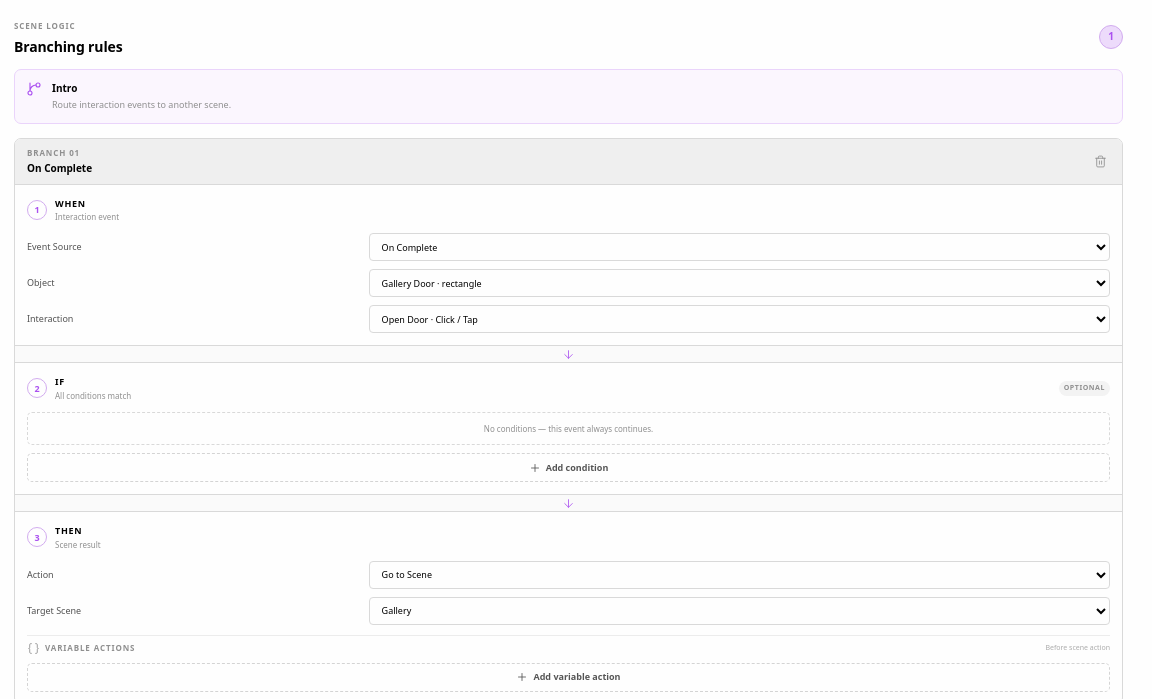
Test case: LogicPanel › asks for an event name only for Custom Event
The width and height of the screenshot is (1152, 699).
Select "Custom Event" in the dropdown labelled "Event Source": (739, 247) [369,233,1110,261]
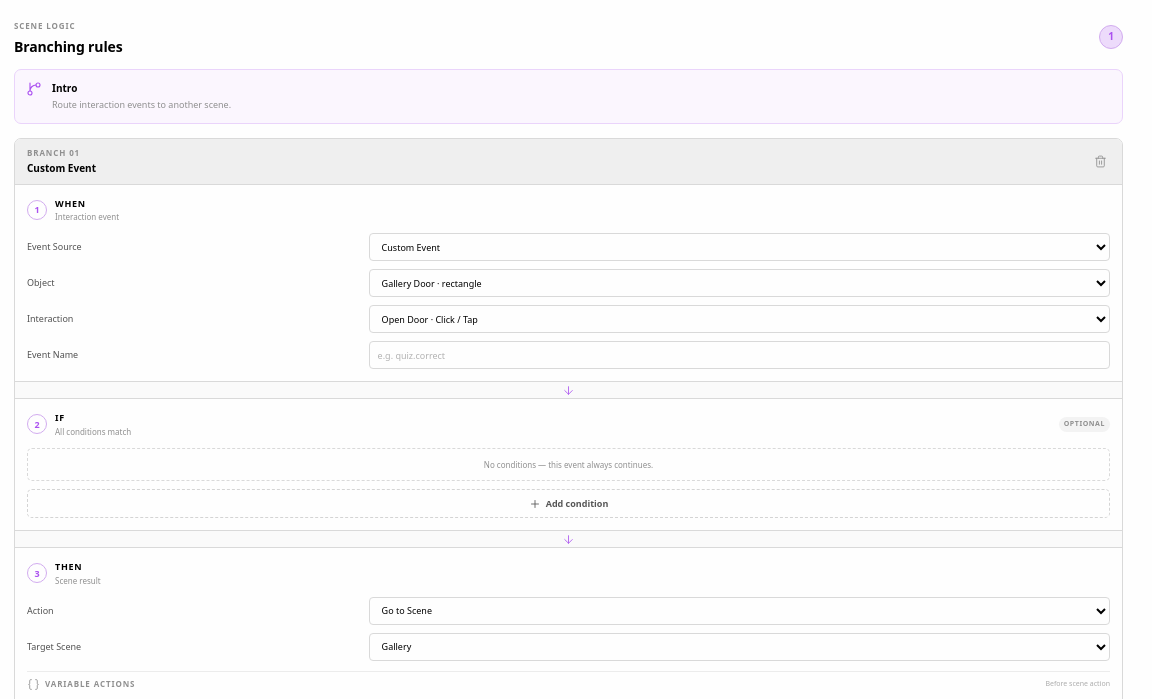
Result: the field named "Custom Event Name" is shown at [369,341,1110,369]
